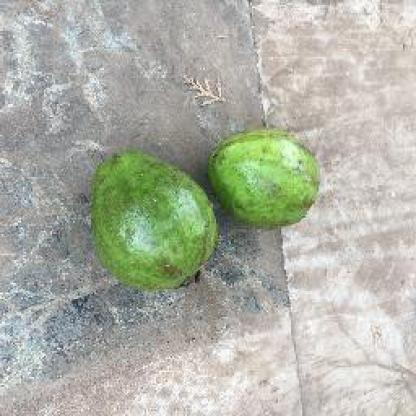guava: (89, 149, 218, 289), (208, 130, 324, 228)
